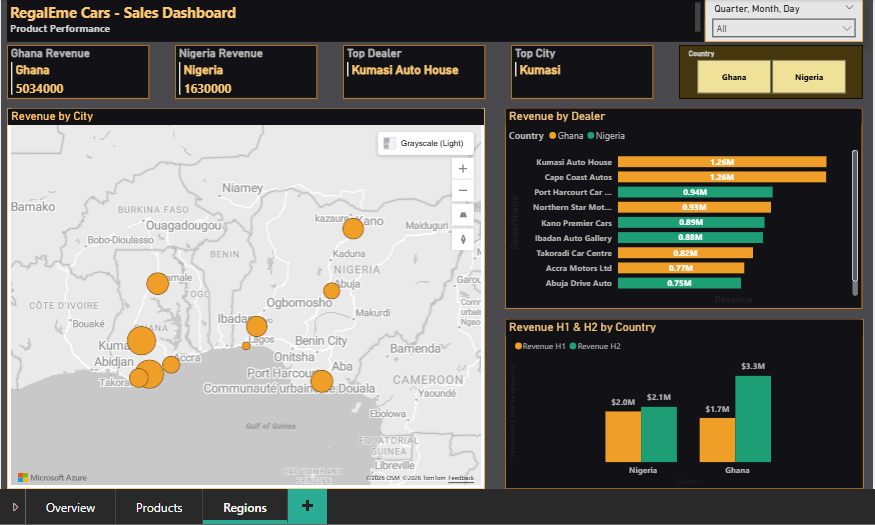

Layout of this report page (visuals, bound fields, positions):
{"tool":"powerbi","page":{"name":"Regions","canvas":[1280,720],"ordinal":2},"visuals":[{"type":"multiRowCard","title":"Ghana Revenue","fields":{"Values":["0- Measures.Revenue","Dealers.Country"]},"box":[8.8,67.6,208.7,79.3],"z":0},{"type":"textbox","box":[8.9,0,1024.4,62.6],"z":1000},{"type":"barChart","title":"Revenue by Dealer","fields":{"Category":["Dealers.DealerName"],"Y":["0- Measures.Revenue"],"Series":["Dealers.Country"]},"box":[740.6,160.2,524.6,295.3],"z":2000},{"type":"slicer","fields":{"Values":["Sales.Date.Variation.Date Hierarchy.Quarter","Sales.Date.Variation.Date Hierarchy.Month","Sales.Date.Variation.Date Hierarchy.Day"]},"box":[1035.1,0,232.4,62.6],"z":3000},{"type":"multiRowCard","title":"Nigeria Revenue","fields":{"Values":["0- Measures.Revenue","Dealers.Country"]},"box":[255.7,67.6,208.7,79.3],"z":4000},{"type":"multiRowCard","title":"Top City","fields":{"Values":["Dealers.City"]},"box":[749.4,67.6,208.7,79.3],"z":5000},{"type":"multiRowCard","title":"Top Dealer","fields":{"Values":["Dealers.DealerName"]},"box":[502.5,67.6,208.7,79.3],"z":6000},{"type":"azureMap","title":"Revenue by City","fields":{"Category":["Dealers.City"],"Size":["0- Measures.Revenue"]},"box":[8.8,160.2,702.4,559.8],"z":7000},{"type":"clusteredColumnChart","title":"Revenue H1 & H2 by Country","fields":{"Category":["Dealers.Country"],"Y":["0- Measures.Revenue H1","0- Measures.Revenue H2"]},"box":[740.1,470.2,527.4,250.3],"z":8000},{"type":"slicer","fields":{"Values":["Dealers.Country"]},"box":[996.2,67.6,270.4,79.3],"z":8001}]}

Visuals, with their boxes on the page's 1280x720 design canvas (x1, y1, x2, y2). These are canvas units, not pixel positions in the 875x525 screenshot, which may show the page scaled, cropped or inside an application window:
"Ghana Revenue" multiRowCard: 9 68 218 147
textbox: 9 0 1033 63
"Revenue by Dealer" barChart: 741 160 1265 456
slicer - Sales.Date.Variation.Date Hierarchy.Quarter x Sales.Date.Variation.Date Hierarchy.Month: 1035 0 1268 63
"Nigeria Revenue" multiRowCard: 256 68 464 147
"Top City" multiRowCard: 749 68 958 147
"Top Dealer" multiRowCard: 502 68 711 147
"Revenue by City" azureMap: 9 160 711 720
"Revenue H1 & H2 by Country" clusteredColumnChart: 740 470 1268 720
slicer - Dealers.Country: 996 68 1267 147
